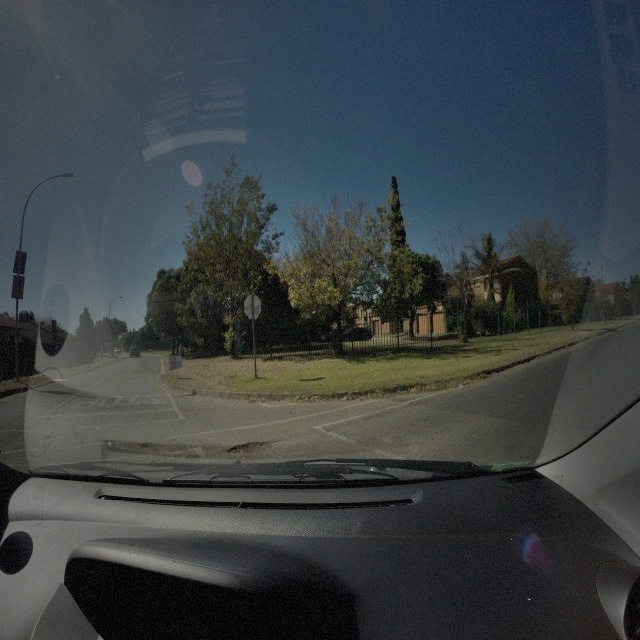pothole: (225, 440, 272, 454), (141, 442, 152, 451)
